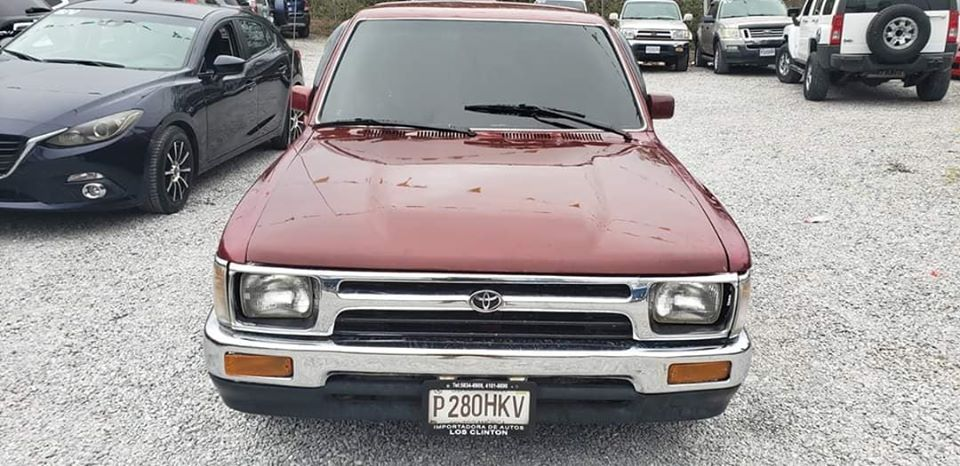pickup: (271, 4, 748, 448)
